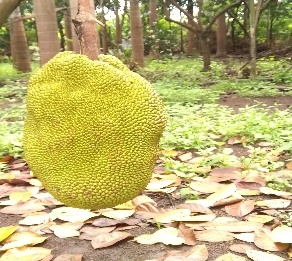Mit: (25, 52, 168, 211)
